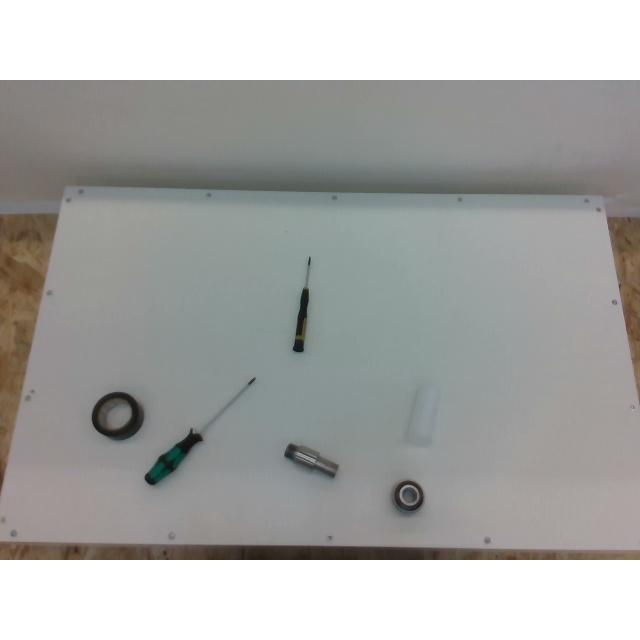Axis2: (284, 444, 338, 476)
Bearing2: (392, 479, 424, 511)
Screwdriver: (144, 376, 256, 484)
Spacer: (403, 383, 439, 445)
